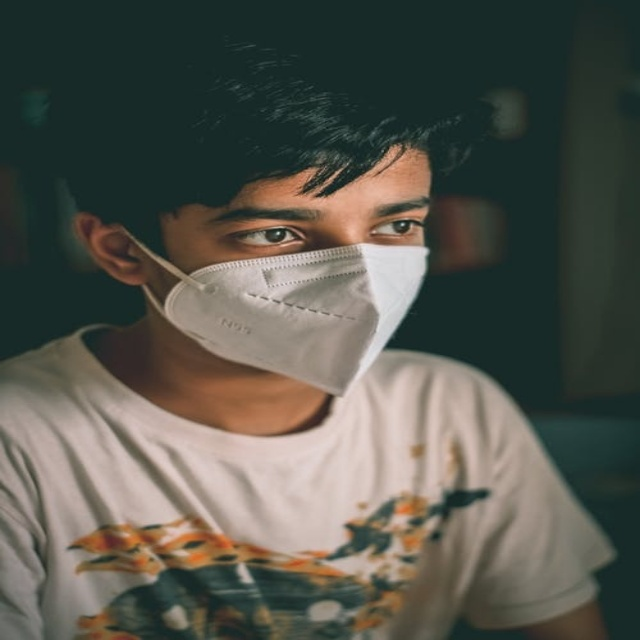Mascara: (133, 228, 432, 398)
Sin_gafas: (196, 191, 429, 259)
